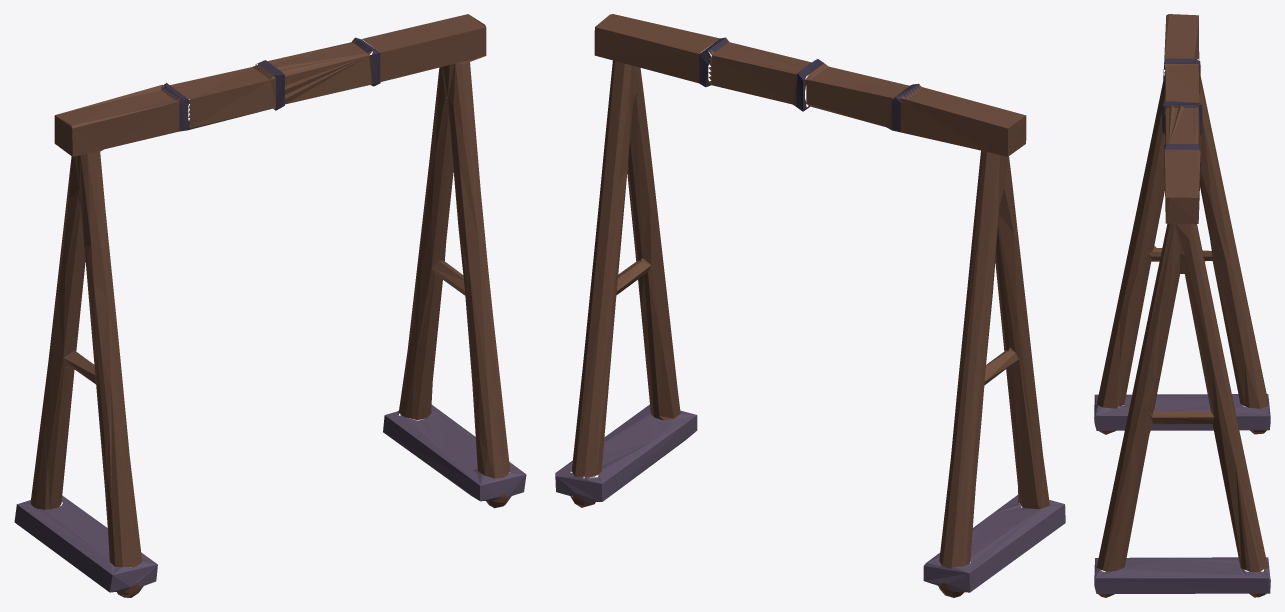
The model's file is bell_frame.glb.
The picture shows the model from 3 angles, left to right: view 1: azimuth 30°, elevation 25°; view 2: azimuth 150°, elevation 25°; view 3: azimuth 270°, elevation 25°; orthographic projection. The views are drawn at different scales.
Parts seen in each view (by area): view 1: bell_frame; view 2: bell_frame; view 3: bell_frame.
Boxes of the visible parts, x1,y1,x2,y2 form: bell_frame: (14, 14, 526, 597); bell_frame: (555, 14, 1065, 597); bell_frame: (1094, 14, 1270, 597).
Size of the model in its own units: 5.2 by 5.43 by 2.11.
